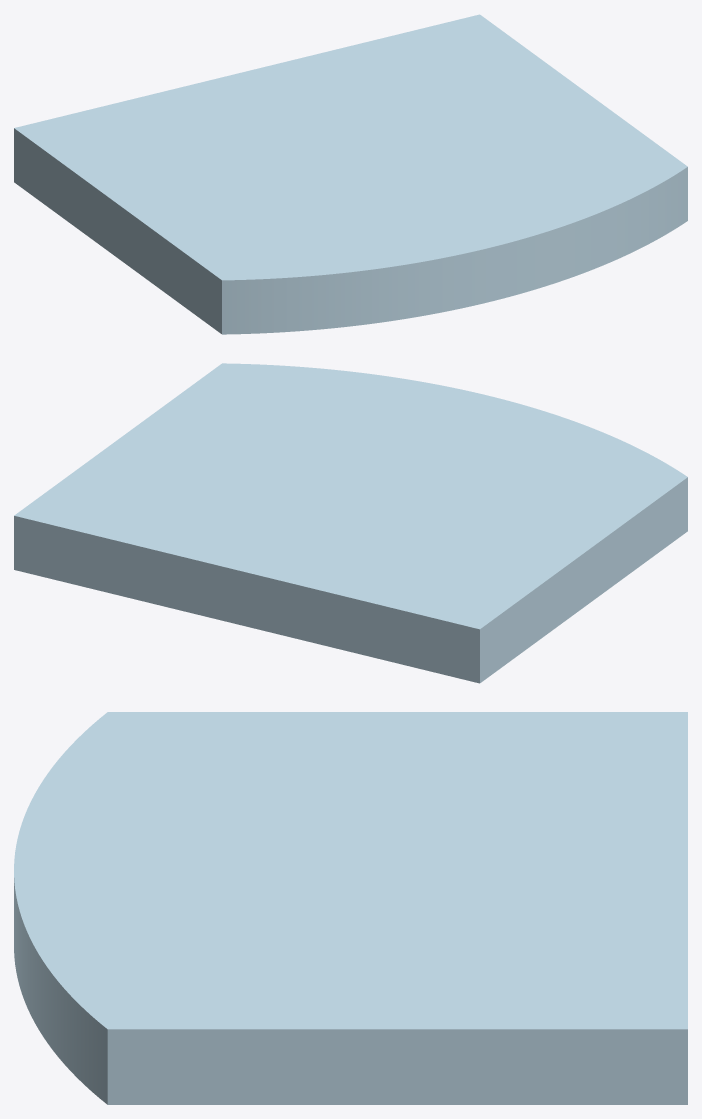
The picture shows the model from 3 angles, top to bottom: view 1: azimuth 30°, elevation 25°; view 2: azimuth 150°, elevation 25°; view 3: azimuth 270°, elevation 25°; orthographic projection. The views are drawn at different scales.
Visible parts, largest first — view 1: PC-67-F_LOD0; view 2: PC-67-F_LOD0; view 3: PC-67-F_LOD0.
Boxes of the visible parts, <box> form: PC-67-F_LOD0: <box>14,14,687,334</box>; PC-67-F_LOD0: <box>14,363,687,683</box>; PC-67-F_LOD0: <box>14,712,687,1104</box>.
Size of what is drawn, in the model's own units: 91.44 by 10.16 by 82.13.
